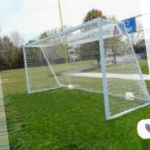goals: (21, 17, 150, 121)
